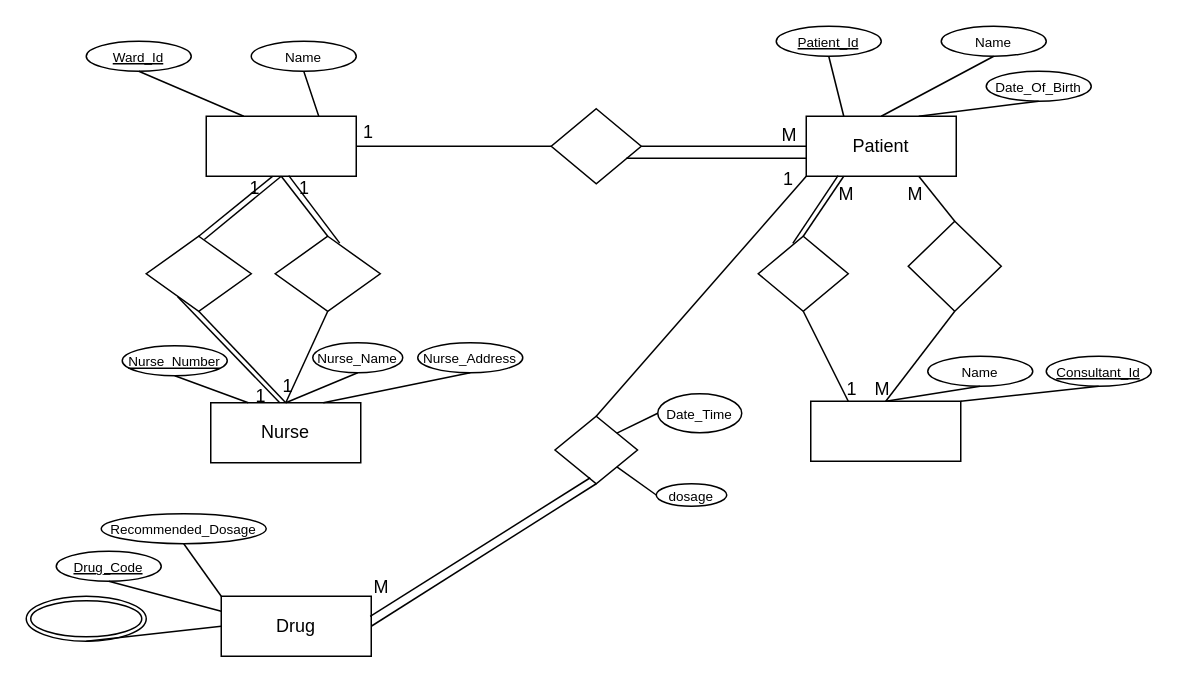
This 1178x683 diagram has some shape labels left out. The shapes that lost their labels are listed below. From the top down, each one's centre as x and y in pixels, then its label:
the point at 280,145: Ward
the point at 595,145: host
the point at 198,273: serve
the point at 327,273: supervised
the point at 802,273: assigned
the point at 954,265: examined
the point at 596,449: takes
the point at 885,430: Consultant
the point at 85,618: Brand_Name
